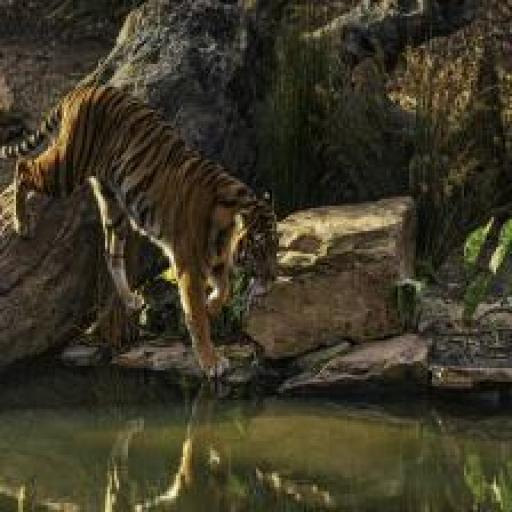Tiger: (0, 57, 293, 402)
